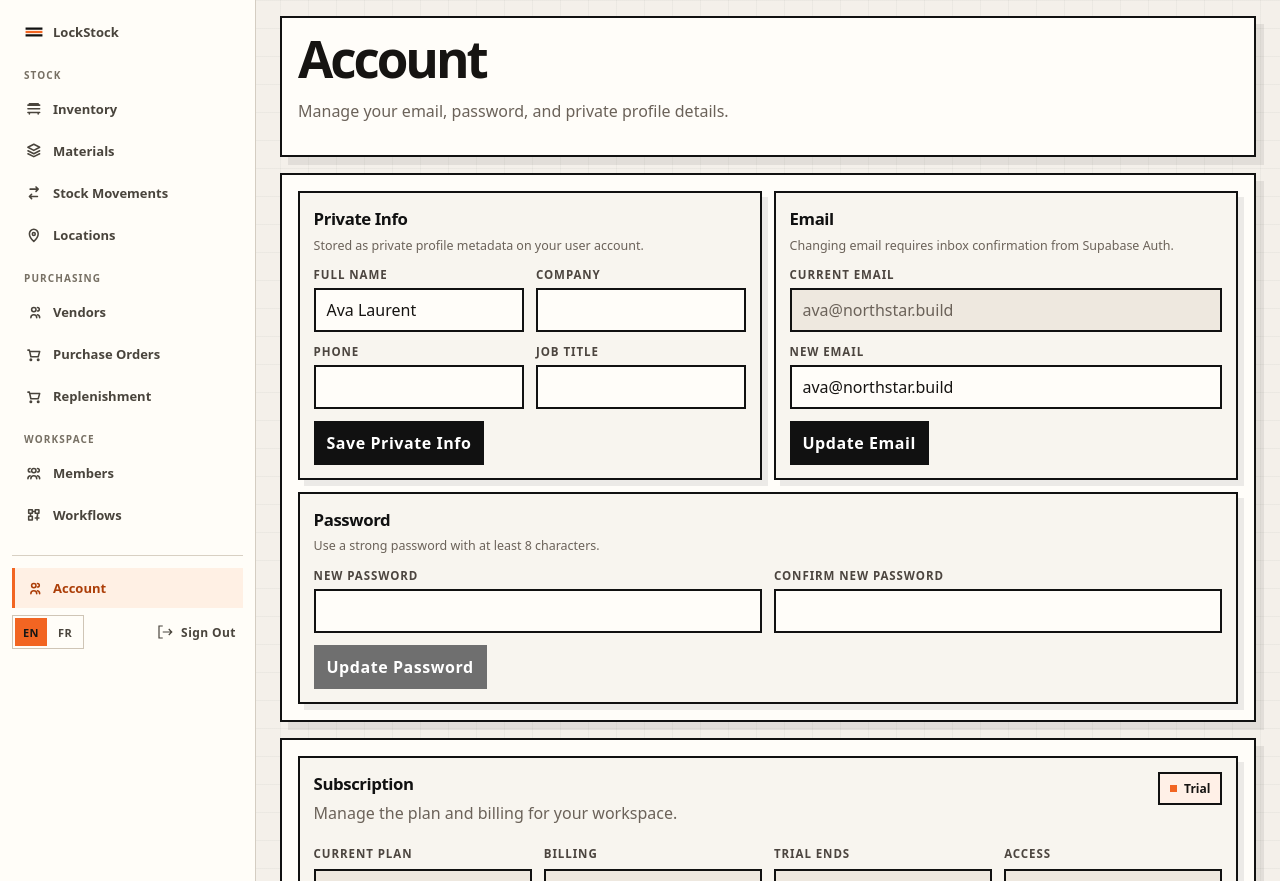
Test: LockstockAccount › confirms password changes only after acceptance and clears feedback on edit
Type "new-password-123" into the password field labelled "New Password". click: [538, 611]
box: x1=314 y1=589 x2=762 y2=633
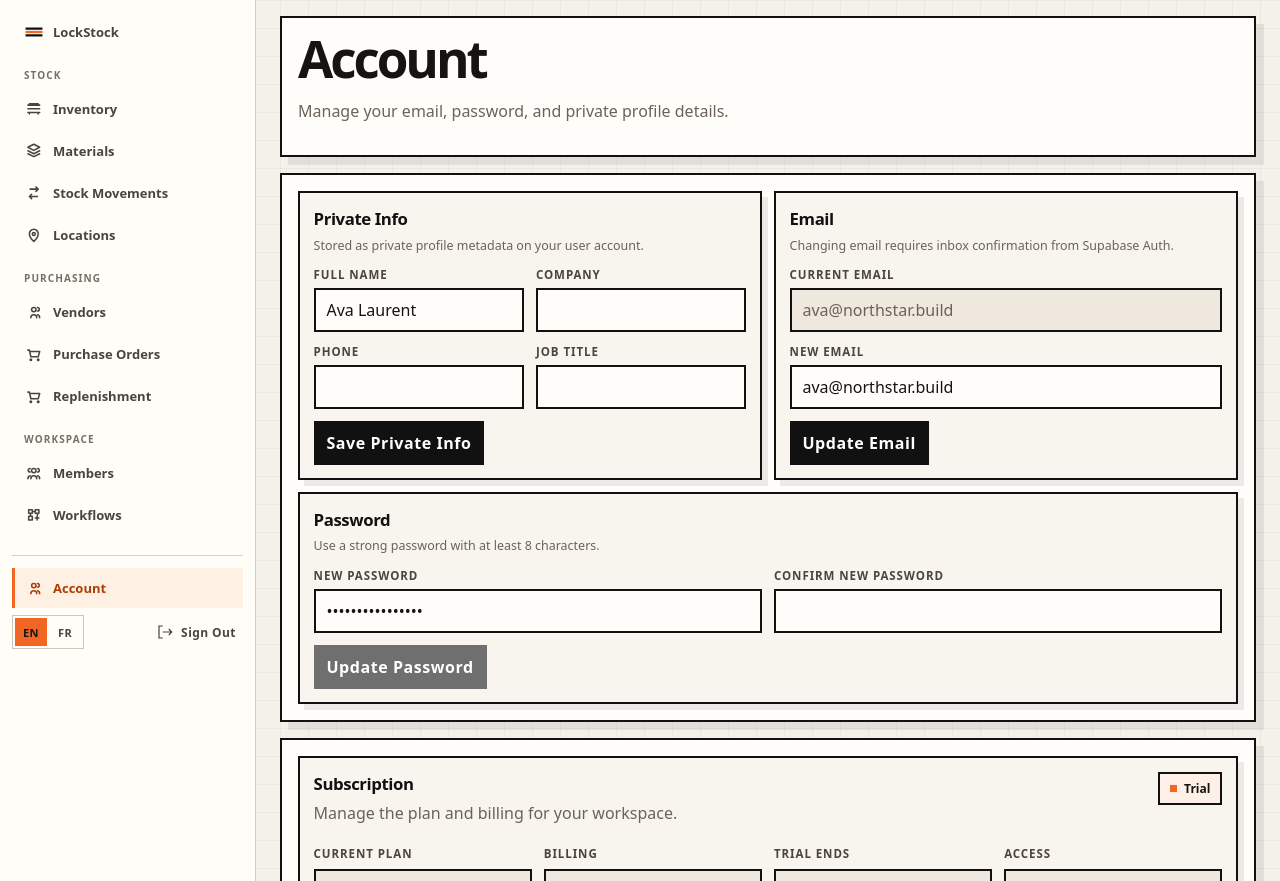
Type "new-password-123" into the password field labelled "Confirm New Password". click: [998, 611]
box: x1=774 y1=589 x2=1222 y2=633
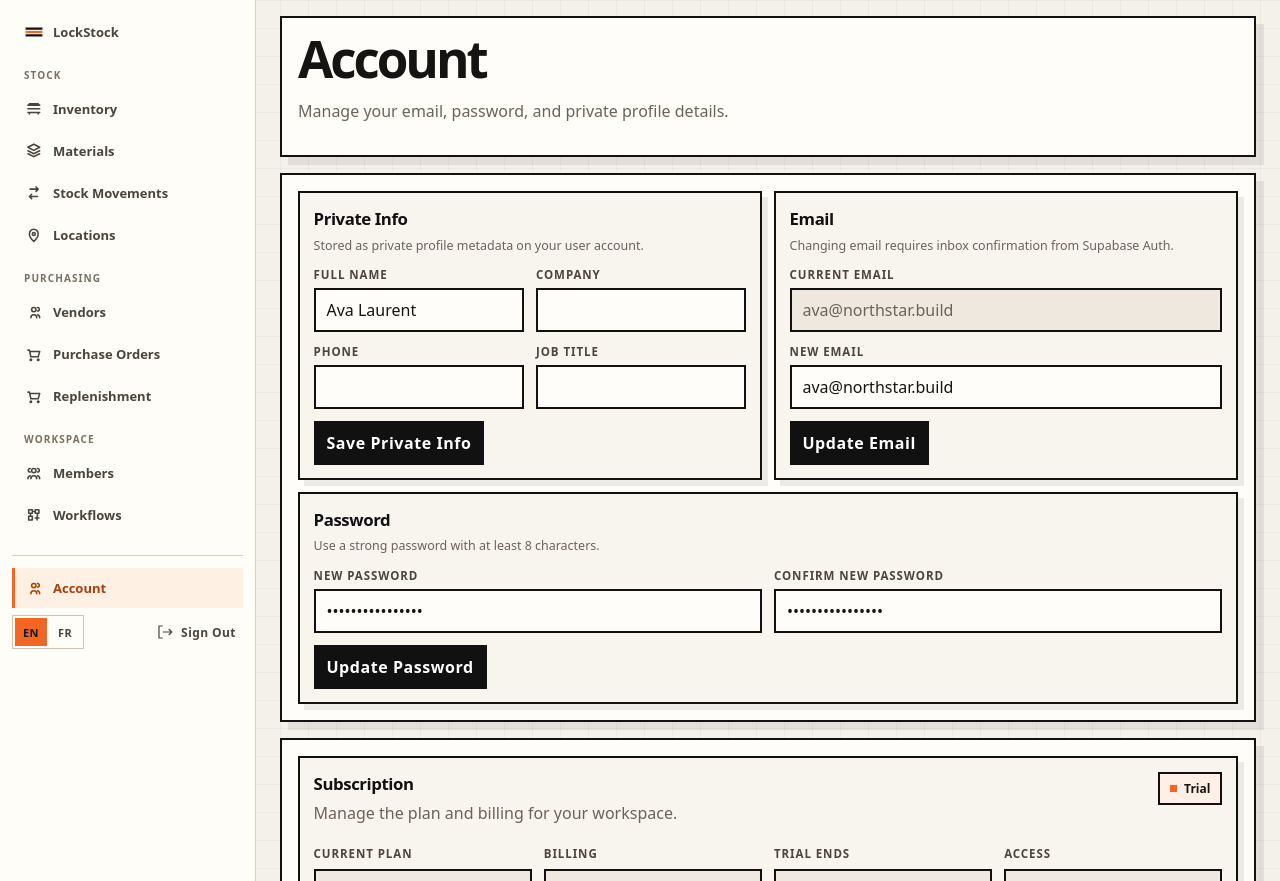
Check: the button "Update Password" is enabled
Click the button "Update Password". click: [400, 667]
box: x1=314 y1=645 x2=487 y2=689
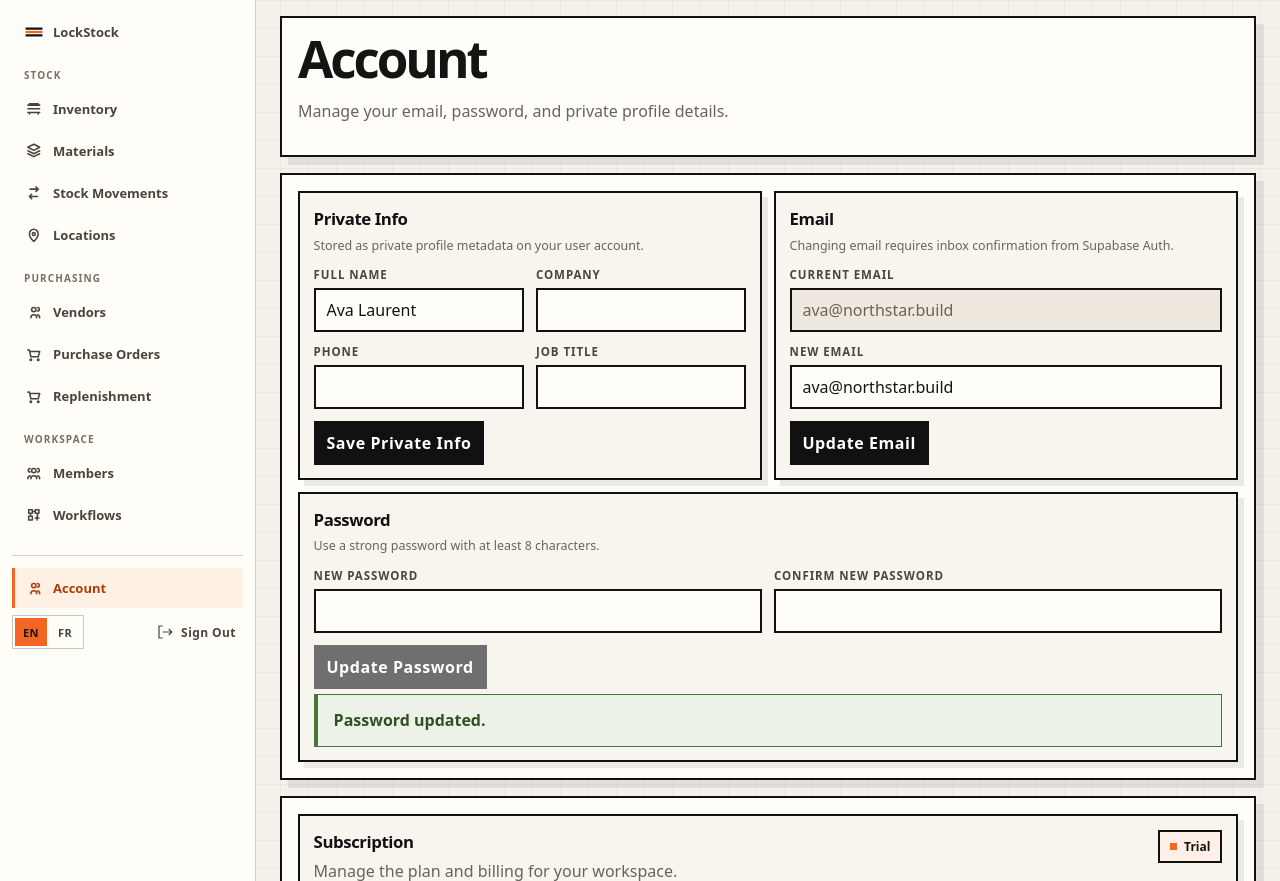
Check: the message reads "Password updated.", box x1=334 y1=709 x2=486 y2=731
Check: the password field labelled "New Password" is empty
Type "another-password" into the password field labelled "New Password". click: [538, 611]
box: x1=314 y1=589 x2=762 y2=633
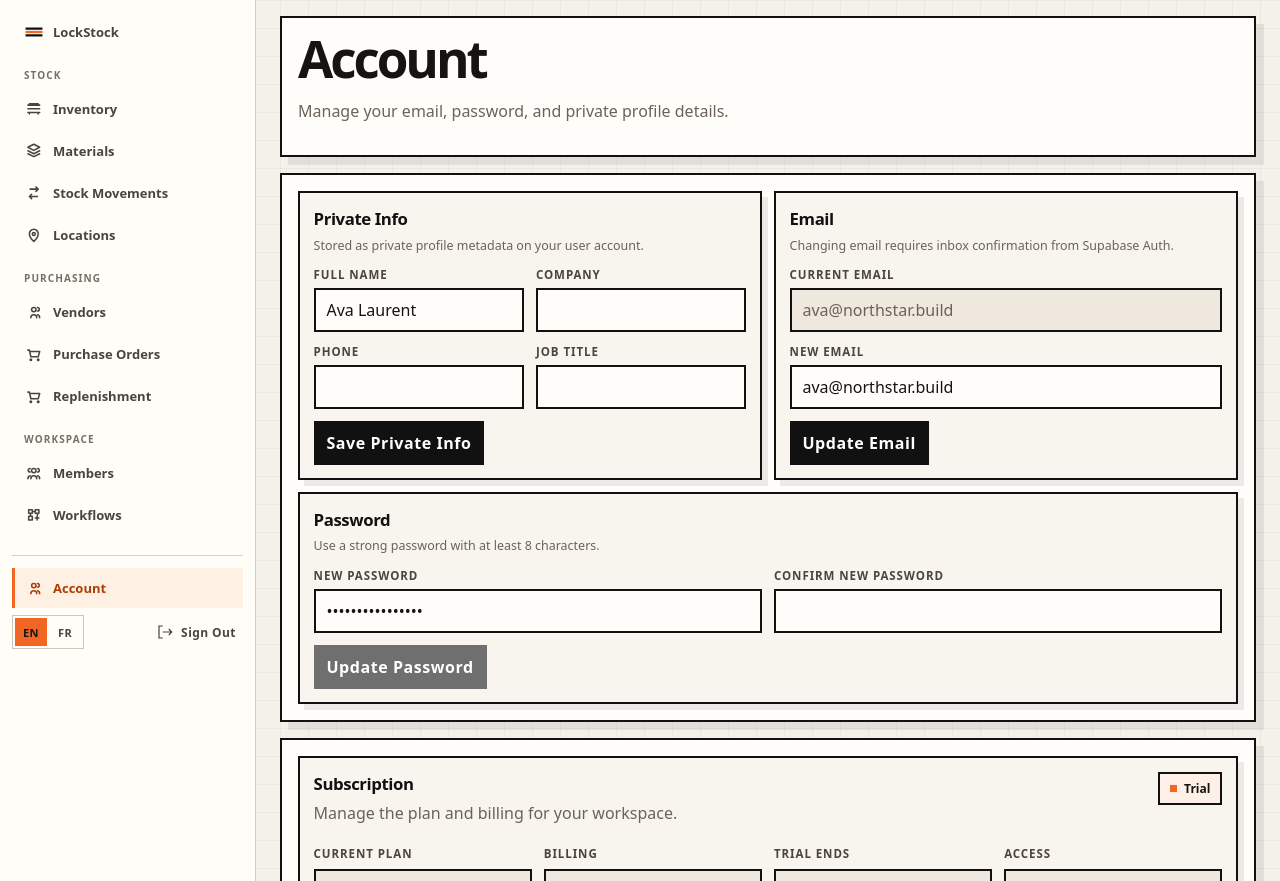
Check: the message "Password updated." is gone
